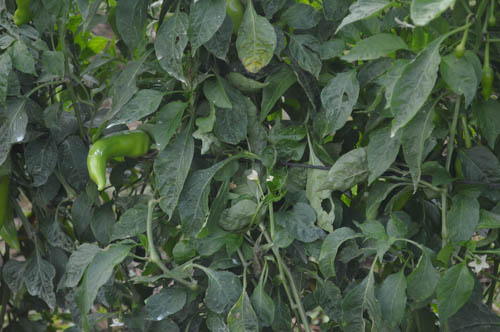ChiliPepper: (84, 130, 149, 190)
